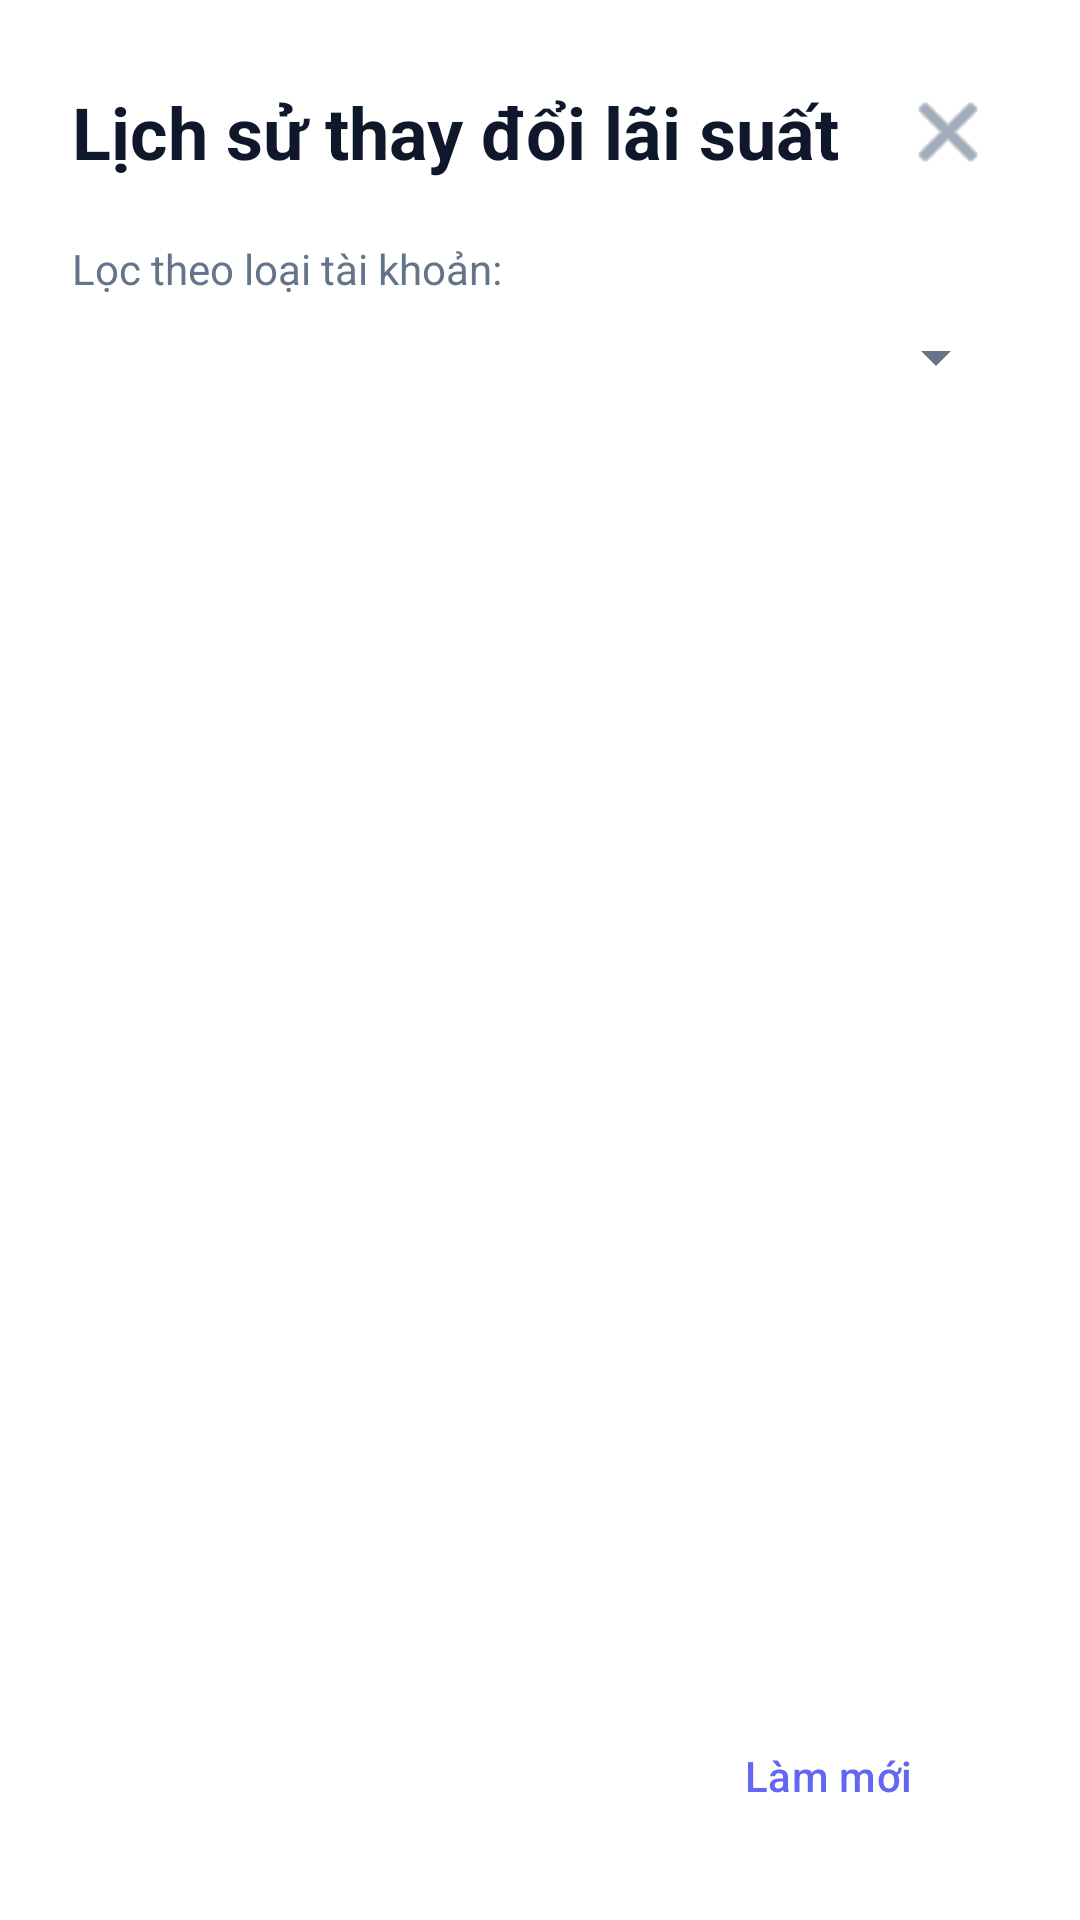

Where to tap for icons on this 1080 × 1920 app screen, as (x=x, y=y):
Close: (x=948, y=132)
